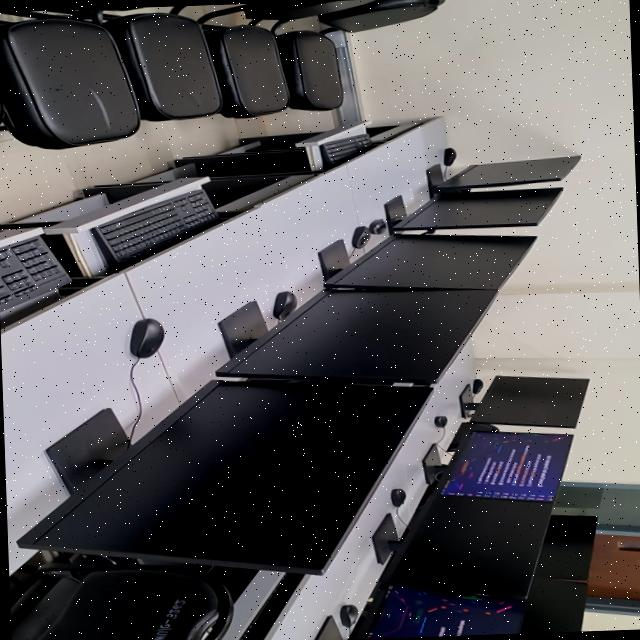Chair: (197, 0, 374, 117), (0, 6, 139, 148), (276, 0, 443, 110), (9, 561, 233, 640), (102, 4, 222, 120)
Keyboard: (92, 188, 218, 269), (0, 237, 69, 311), (320, 132, 373, 167)
Monitor: (17, 379, 431, 573), (218, 289, 496, 384), (384, 463, 552, 598), (327, 234, 536, 289), (519, 514, 597, 633), (440, 431, 571, 501), (362, 585, 523, 639), (386, 187, 562, 231), (459, 375, 589, 427), (428, 155, 579, 193)
Mouse: (130, 317, 164, 357), (274, 290, 297, 319), (340, 603, 359, 626), (352, 225, 371, 247), (391, 487, 406, 506), (369, 218, 386, 233), (443, 147, 456, 165), (434, 415, 448, 426), (473, 378, 483, 393)
